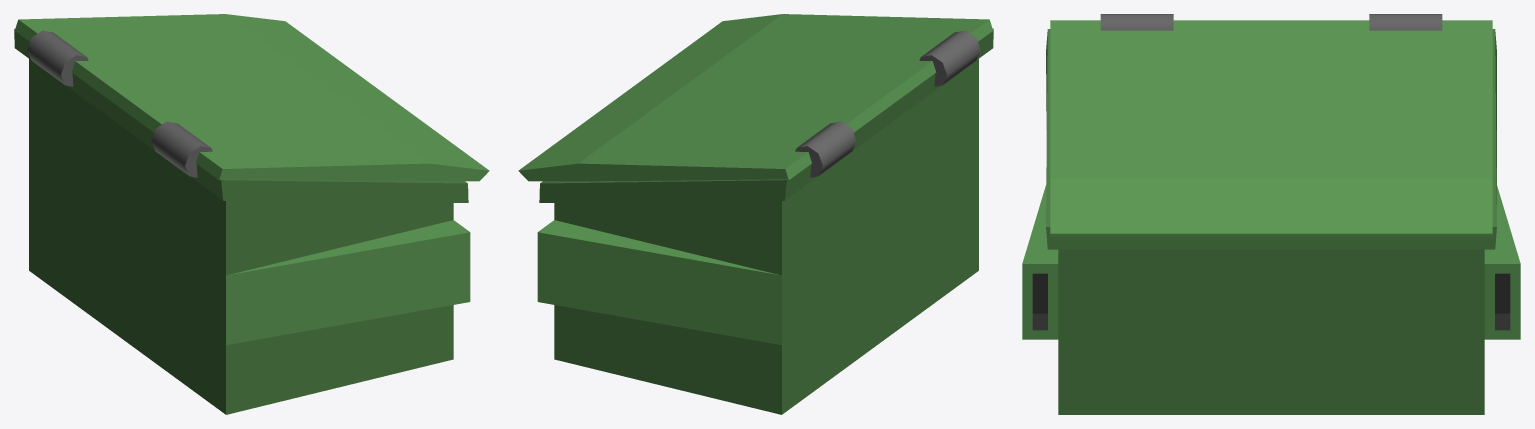
Rendered from StreetDumpster.fbx.
3 renders of one model, left to right at view 1: azimuth 30°, elevation 25°; view 2: azimuth 150°, elevation 25°; view 3: azimuth 270°, elevation 25°, orthographic. The views are drawn at different scales.
Visible parts, largest first — view 1: OCStreetDumpster, OCStreetDumpsterLid, OCStreetDumpsterHinge; view 2: OCStreetDumpster, OCStreetDumpsterLid, OCStreetDumpsterHinge; view 3: OCStreetDumpsterLid, OCStreetDumpster, OCStreetDumpsterHinge.
Part boxes in pixels (<box>): OCStreetDumpster: <box>14,28,470,414</box>; OCStreetDumpsterLid: <box>15,14,489,181</box>; OCStreetDumpsterHinge: <box>27,30,212,177</box>; OCStreetDumpster: <box>537,28,993,414</box>; OCStreetDumpsterLid: <box>518,14,992,181</box>; OCStreetDumpsterHinge: <box>795,30,980,177</box>; OCStreetDumpsterLid: <box>1050,20,1492,236</box>; OCStreetDumpster: <box>1022,29,1520,414</box>; OCStreetDumpsterHinge: <box>1100,14,1442,30</box>.
Size of what is drawn, in the model's own units: 9.9 by 14.04 by 8.6.
